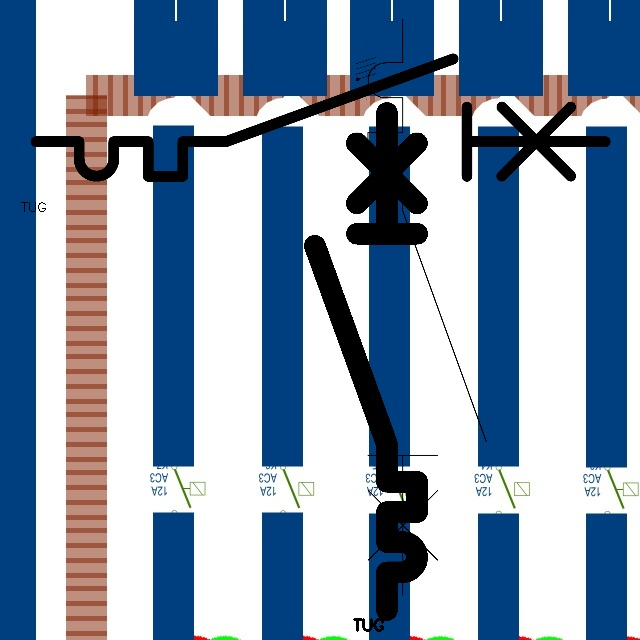interruptor_termomagnetico: (353, 4, 501, 610), (21, 44, 620, 191), (302, 100, 430, 623)
